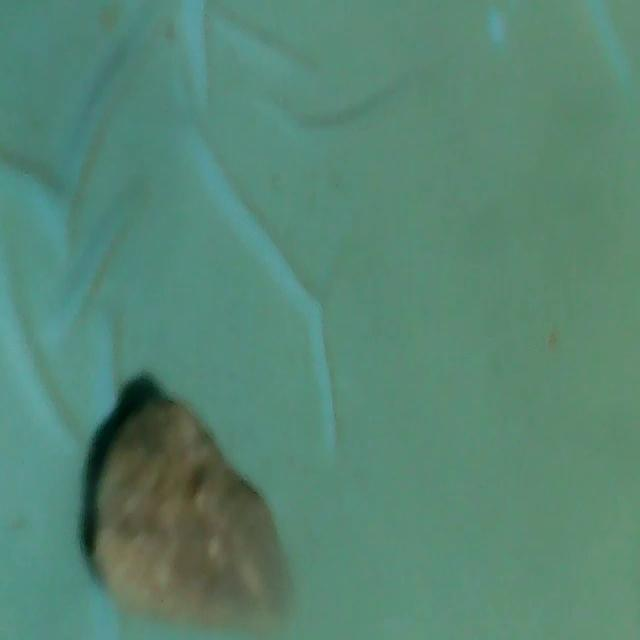rock: (69, 381, 297, 639)
